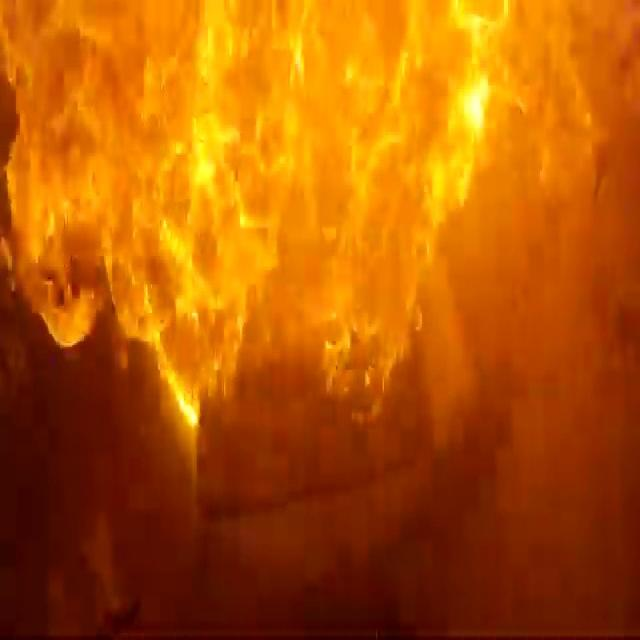fire: (3, 0, 505, 441)
